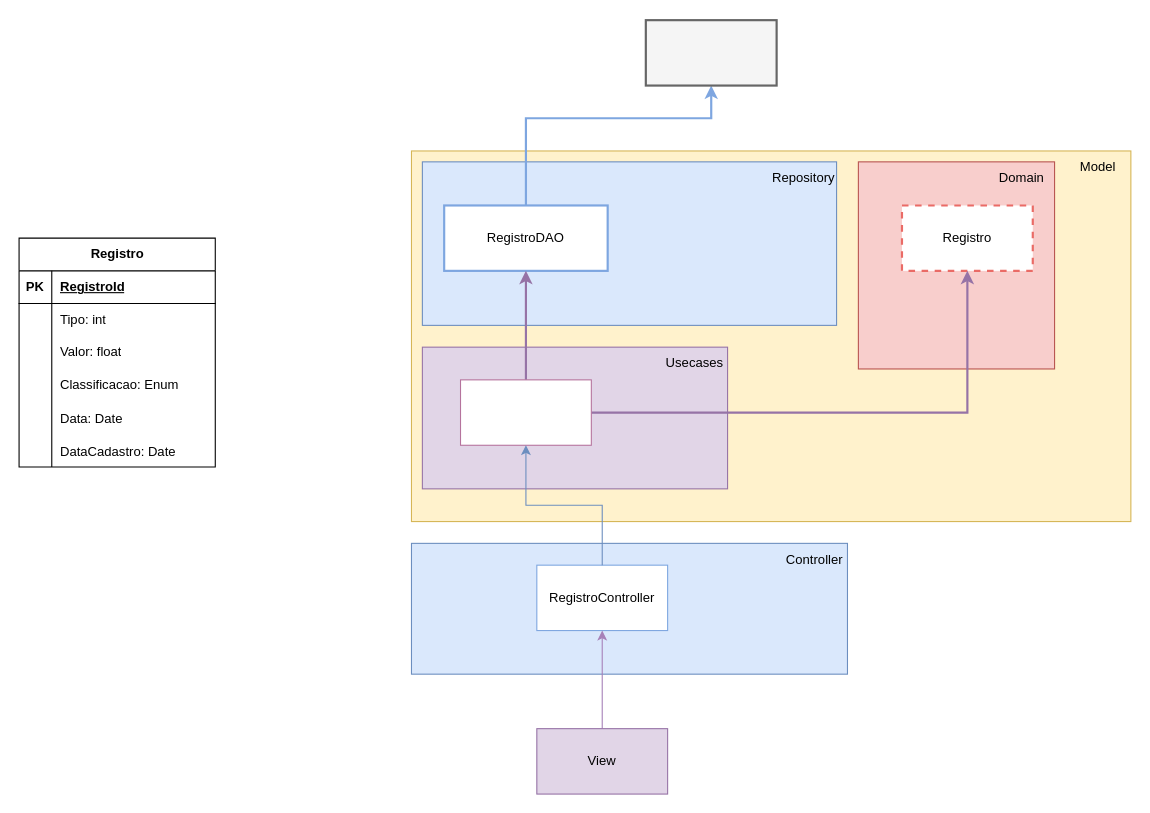
This 1150x813 diagram has some shape labels left out. The box of each missing label's shape, as (x1, y1, x2, y2) in pixels:
PostgresDriver: (644, 19, 777, 86)
RegistroModel: (459, 379, 591, 445)
